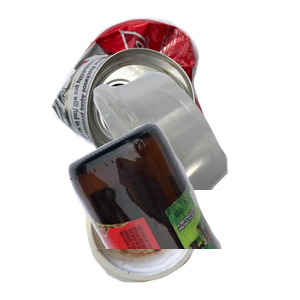glass: (66, 120, 300, 300)
metal: (48, 15, 251, 175)
plastic: (91, 69, 300, 249)
trash: (83, 163, 276, 300)
